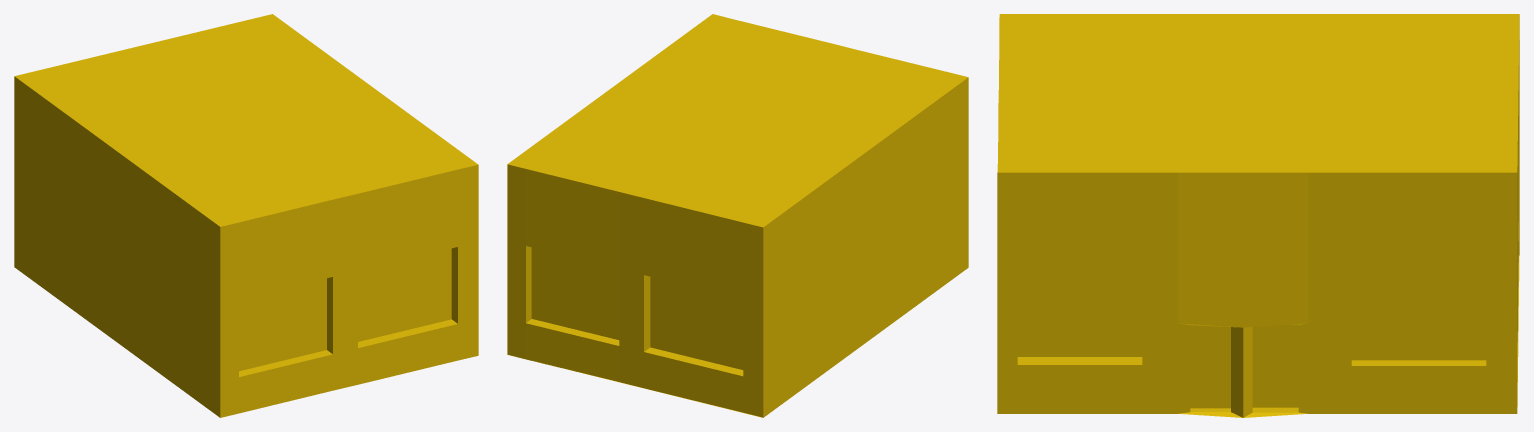
Rendered from cooptest.fbx.
The picture shows the model from 3 angles, left to right: view 1: azimuth 30°, elevation 25°; view 2: azimuth 150°, elevation 25°; view 3: azimuth 270°, elevation 25°; orthographic projection. The views are drawn at different scales.
Visible parts, largest first — view 1: Cube; view 2: Cube; view 3: Cube.
Boxes of the visible parts, x1,y1,x2,y2 form: Cube: [14, 14, 478, 417]; Cube: [507, 14, 968, 417]; Cube: [997, 14, 1519, 417].
Size of the model in its own units: 955 by 661 by 1294.
